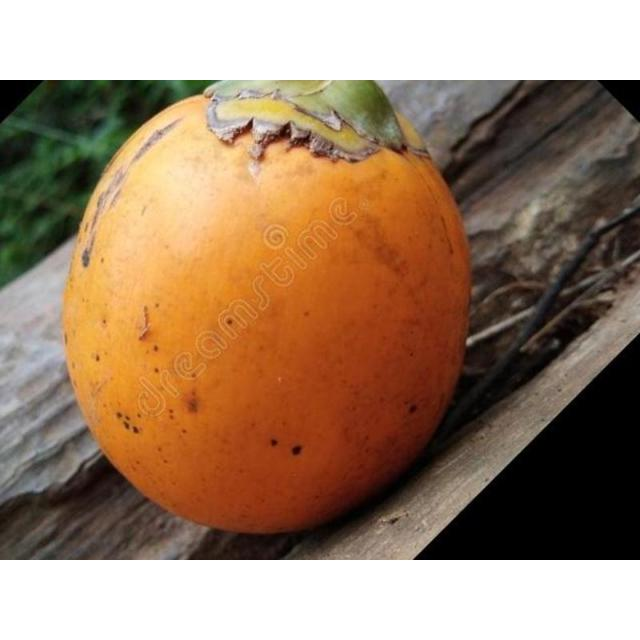good: (58, 80, 474, 539)
